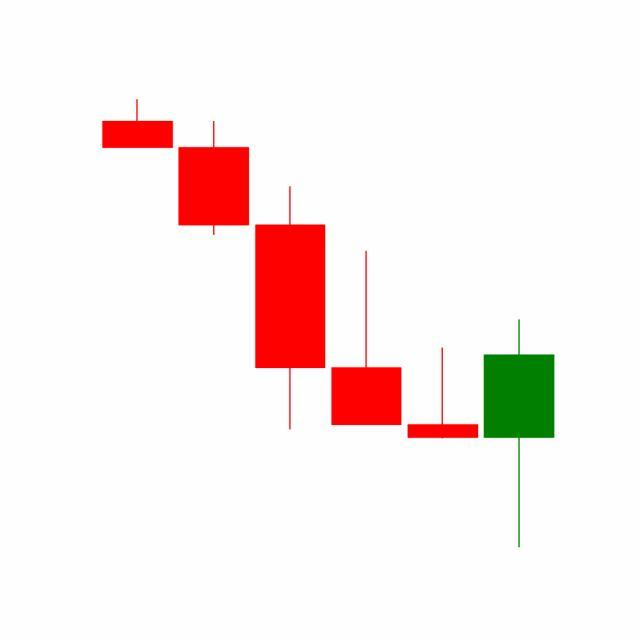Gravestone Doji: (404, 347, 482, 441)
